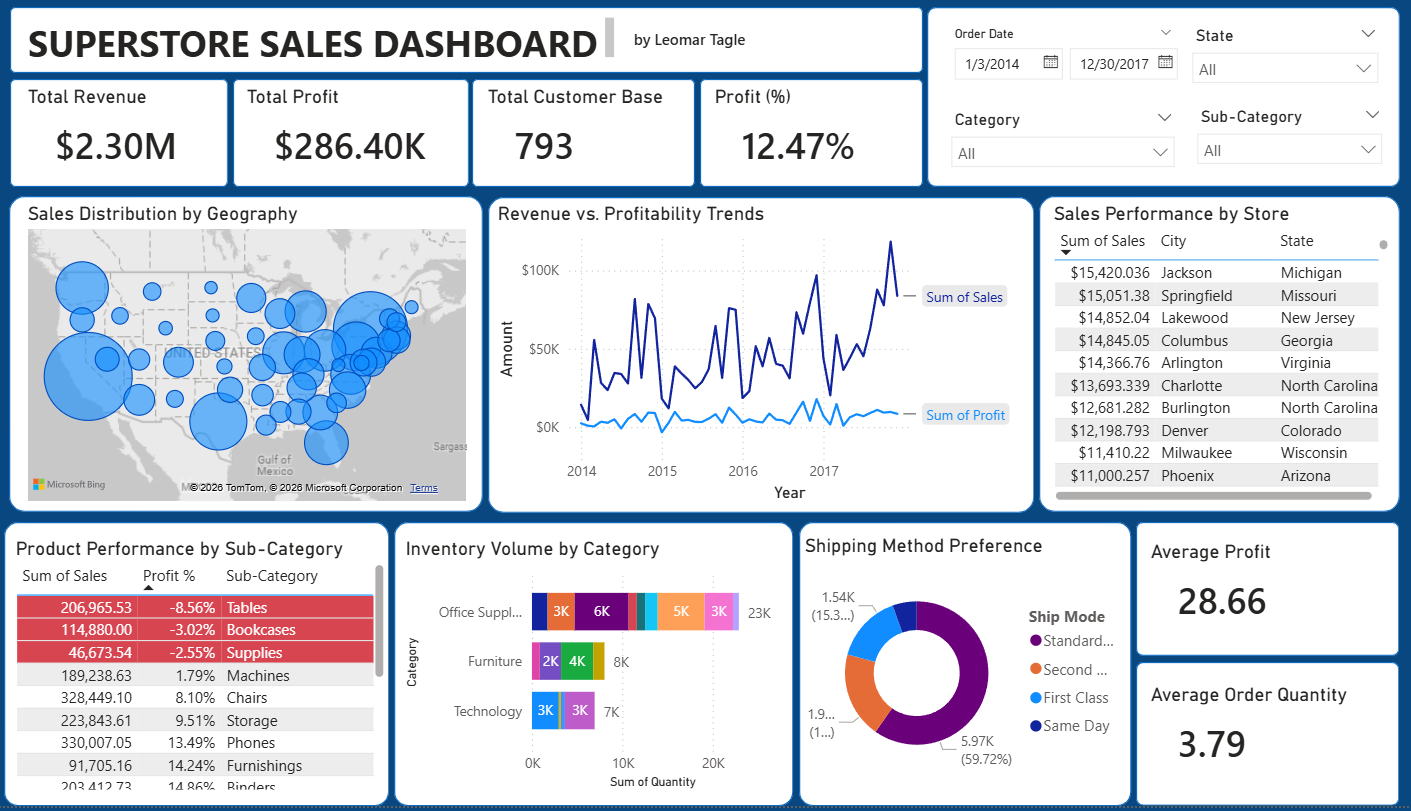

The dashboard page shown, as its layout file describes it:
{"tool":"powerbi","page":{"name":"Page 1","canvas":[1280,720],"ordinal":0},"visuals":[{"type":"shape","box":[1027.1,592.3,233.4,127.4],"z":0},{"type":"shape","box":[1027.1,467.8,233.4,118.7],"z":1000},{"type":"shape","box":[727.5,467.8,294.7,251.9],"z":2000},{"type":"shape","box":[368.6,467.8,354,251.9],"z":3000},{"type":"shape","box":[23.3,467.8,341.4,251.9],"z":4000},{"type":"shape","box":[940.5,179,320,280.1],"z":5000},{"type":"shape","box":[452.3,179.9,484.4,280.1],"z":6000},{"type":"shape","box":[27.2,179,420.2,280.1],"z":7000},{"type":"shape","box":[841.5,11.5,419.4,159.6],"z":8000},{"type":"shape","box":[28.4,11.5,809.6,58.5],"z":9000},{"type":"shape","box":[640.2,75.4,197.7,95.8],"z":10000},{"type":"shape","box":[438,75.4,197.7,95.8],"z":11000},{"type":"shape","box":[226.1,75.4,209.3,95.8],"z":12000},{"type":"shape","box":[28.4,75.4,193.3,95.8],"z":13000},{"type":"cardVisual","title":"Total Profit","fields":{"Data":["Sum(Sample - Superstore.Profit)"]},"box":[233.2,80.7,197.7,84.2],"z":14000},{"type":"cardVisual","title":"Total Revenue","fields":{"Data":["Sum(Sample - Superstore.Sales)"]},"box":[39,80.7,176.5,84.2],"z":15000},{"type":"cardVisual","title":"\tTotal Customer Base","fields":{"Data":["Count(Sample - Superstore.Customer ID)"]},"box":[446.9,80.7,180,84.2],"z":16000},{"type":"slicer","fields":{"Values":["Sample - Superstore.State"]},"box":[1067,24.3,184.8,62.2],"z":17000},{"type":"slicer","fields":{"Values":["Sample - Superstore.Order Date"]},"box":[853,24.3,217.9,73.9],"z":18000},{"type":"map","title":"\tSales Distribution by Geography","fields":{"Category":["Sample - Superstore.State","Sample - Superstore.City"],"Size":["Sum(Sample - Superstore.Sales)"]},"box":[38.9,184.8,398.8,270.4],"z":19000},{"type":"lineChart","title":"Revenue vs. Profitability Trends","fields":{"Y":["Sum(Sample - Superstore.Profit)","Sum(Sample - Superstore.Sales)"],"Category":["Sample - Superstore.Order Date.Variation.Date Hierarchy.Year","Sample - Superstore.Order Date.Variation.Date Hierarchy.Month"]},"box":[456.2,184.8,466.9,270.4],"z":20000},{"type":"tableEx","title":"Sales Performance by Store","fields":{"Values":["Sum(Sample - Superstore.Sales)","Sample - Superstore.City","Sample - Superstore.State"]},"box":[948.8,184.4,306.8,270.4],"z":21000},{"type":"donutChart","title":"\tShipping Method Preference","fields":{"Category":["Sample - Superstore.Ship Mode"],"Y":["CountNonNull(Sample - Superstore.Customer ID)"]},"box":[727.5,478.5,294.7,227.6],"z":22000},{"type":"slicer","fields":{"Values":["Sample - Superstore.Category"]},"box":[853,98.4,218.1,61.2],"z":23000},{"type":"barChart","title":"\tInventory Volume by Category","fields":{"Category":["Sample - Superstore.Category"],"Y":["Sum(Sample - Superstore.Quantity)"],"Series":["Sample - Superstore.Sub-Category"]},"box":[374.2,481.5,346.7,227.9],"z":24000},{"type":"cardVisual","title":"Average Order Quantity","fields":{"Data":["Avg(Sample - Superstore.Quantity)"]},"box":[1034.9,610.8,216.9,83.6],"z":25000},{"type":"cardVisual","title":"Average Profit","fields":{"Data":["Avg(Sample - Superstore.Profit)"]},"box":[1034.9,484.4,216.9,83.6],"z":26000},{"type":"slicer","fields":{"Values":["Sample - Superstore.Sub-Category"]},"box":[1071.1,95.8,184.4,63.8],"z":27000},{"type":"cardVisual","title":"Profit (%)","fields":{"Data":["Sample - Superstore.Sum of Profit divided by Sum of Sales 2"]},"box":[648.2,80.7,179.1,84.2],"z":28000},{"type":"textbox","box":[39,16,530.2,48.8],"z":29000},{"type":"tableEx","title":"Product Performance by Sub-Category","fields":{"Values":["Sum(Sample - Superstore.Sales)","Sample - Superstore.Sum of Profit divided by Sum of Sales 2","Sample - Superstore.Sub-Category"]},"box":[28.4,481.5,336.9,228.8],"z":30000},{"type":"textbox","box":[576.4,26.6,127.7,27.5],"z":31000}]}

Visuals, with their boxes in screenshot pixels (x1, y1, x2, y2), scaled from the page's 1280x720 canvas onto the 1411x811 screenshot:
shape: [1132,667,1390,810]
shape: [1132,527,1390,661]
shape: [802,527,1127,810]
shape: [406,527,797,810]
shape: [26,527,402,810]
shape: [1037,202,1390,517]
shape: [499,203,1033,518]
shape: [30,202,493,517]
shape: [928,13,1390,193]
shape: [31,13,924,79]
shape: [706,85,924,193]
shape: [483,85,701,193]
shape: [249,85,480,193]
shape: [31,85,244,193]
"Total Profit" cardVisual: [257,91,475,186]
"Total Revenue" cardVisual: [43,91,238,186]
"	Total Customer Base" cardVisual: [493,91,691,186]
slicer - Sample - Superstore.State: [1176,27,1380,97]
slicer - Sample - Superstore.Order Date: [940,27,1180,111]
"	Sales Distribution by Geography" map: [43,208,482,513]
"Revenue vs. Profitability Trends" lineChart: [503,208,1018,513]
"Sales Performance by Store" tableEx: [1046,208,1384,512]
"	Shipping Method Preference" donutChart: [802,539,1127,795]
slicer - Sample - Superstore.Category: [940,111,1181,180]
"	Inventory Volume by Category" barChart: [412,542,795,799]
"Average Order Quantity" cardVisual: [1141,688,1380,782]
"Average Profit" cardVisual: [1141,546,1380,640]
slicer - Sample - Superstore.Sub-Category: [1181,108,1384,180]
"Profit (%)" cardVisual: [715,91,912,186]
textbox: [43,18,627,73]
"Product Performance by Sub-Category" tableEx: [31,542,403,800]
textbox: [635,30,776,61]
